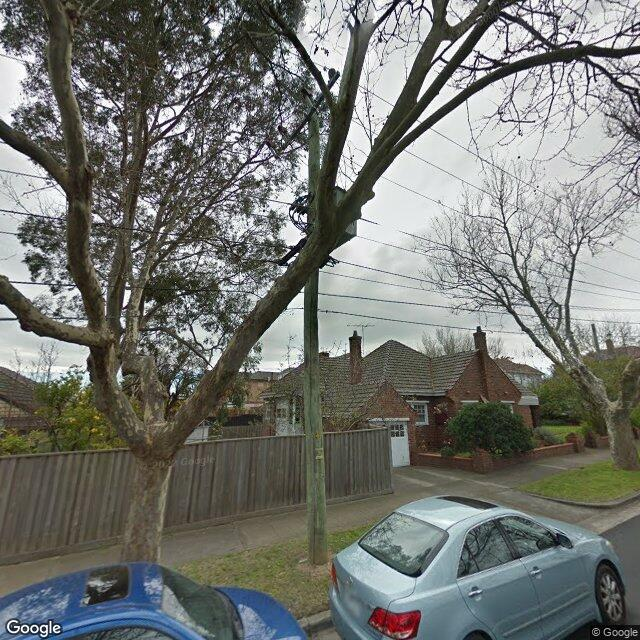HV-transmission: (266, 66, 336, 156)
crossarm: (276, 71, 340, 159), (278, 238, 307, 266)
timber-pole: (304, 100, 327, 566)
transformer: (334, 186, 357, 251)
